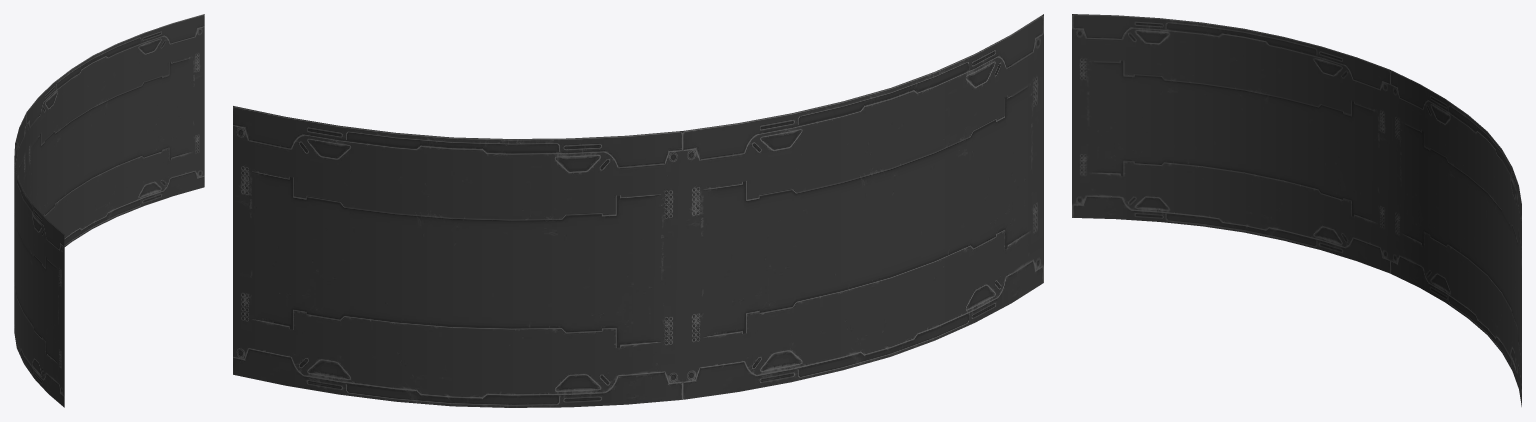
Rendered from ShortWall_DarkMetal2_Corner_Outer.glb.
3 views of the same model, side by side, from view 1: azimuth 30°, elevation 25°; view 2: azimuth 150°, elevation 25°; view 3: azimuth 270°, elevation 25° (orthographic). The views are drawn at different scales.
Visible parts, largest first — view 1: ShortWall_DarkMetal2_Corner_Outer; view 2: ShortWall_DarkMetal2_Corner_Outer; view 3: ShortWall_DarkMetal2_Corner_Outer.
Part boxes in pixels (x1,y1,x2,y2): ShortWall_DarkMetal2_Corner_Outer: (14, 14, 204, 407); ShortWall_DarkMetal2_Corner_Outer: (233, 14, 1043, 407); ShortWall_DarkMetal2_Corner_Outer: (1072, 14, 1521, 406).
Size of the model in its own units: 4 by 2 by 4.
1 material, 1 textured.
